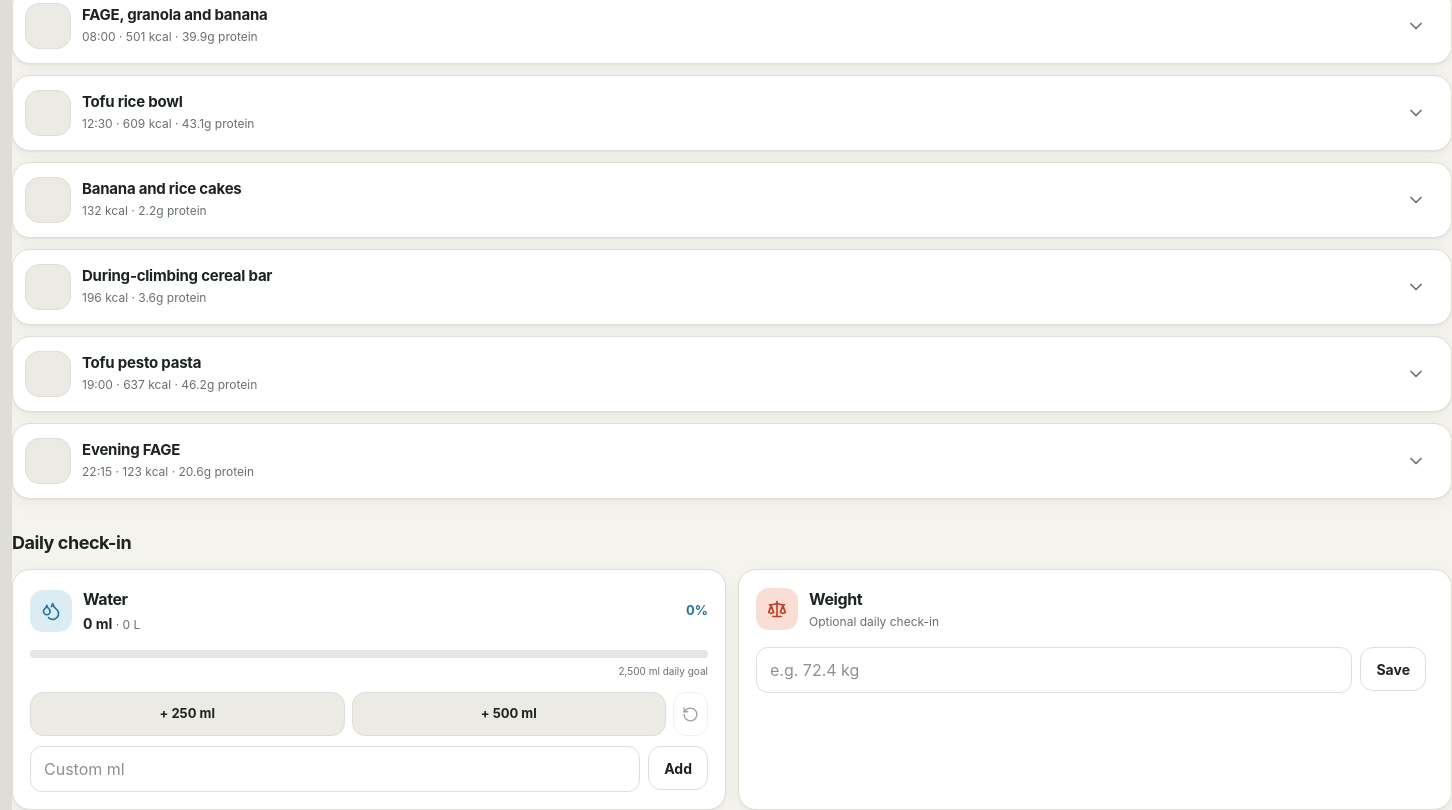
Scenario: tracking interactions › saves and removes a weight entry
(page scrolled)
Type "72.4" into the number field named "Weight in kilograms" at (1054, 670), box [756,647,1352,693]
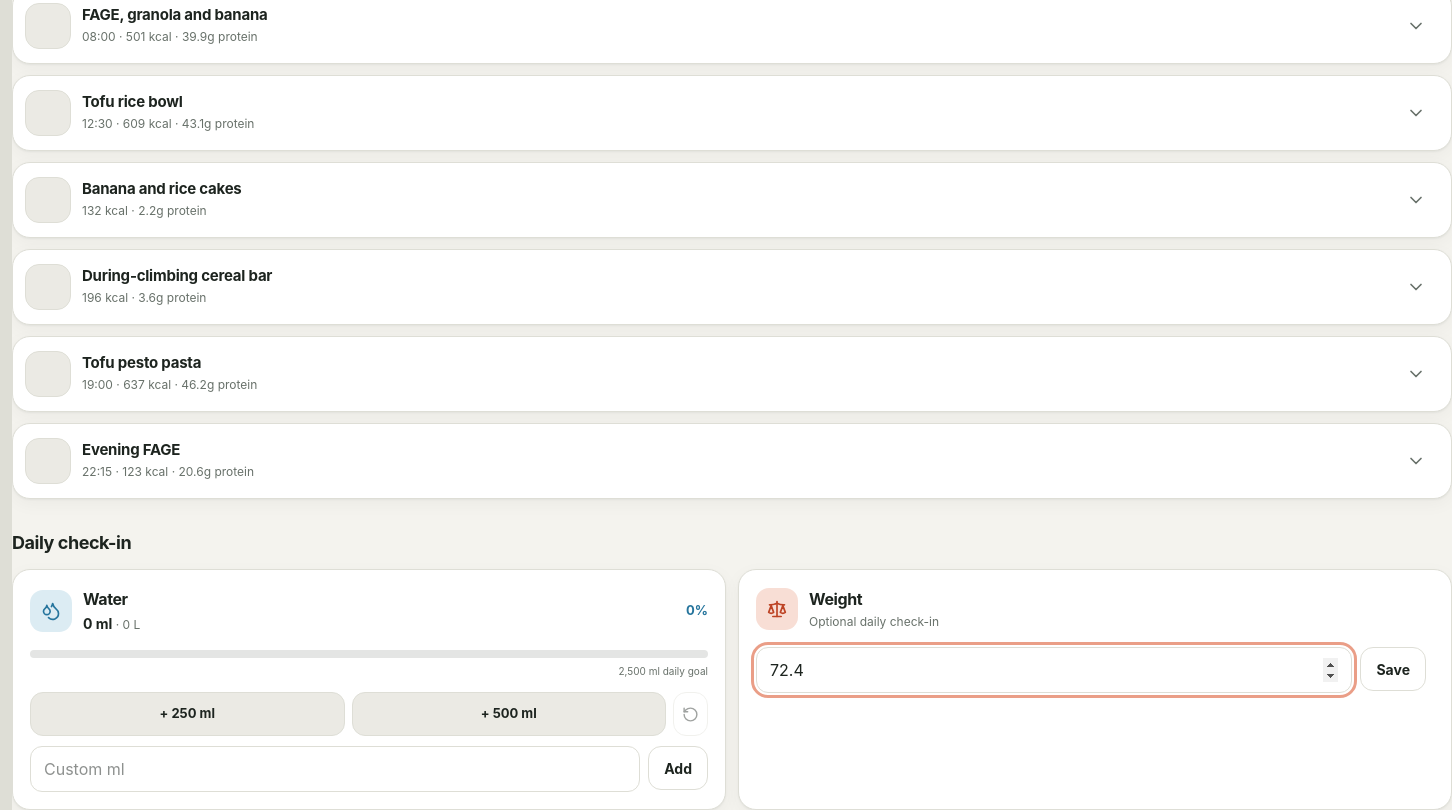
Click the button "Save" at (1393, 669), box [1360,647,1426,691]
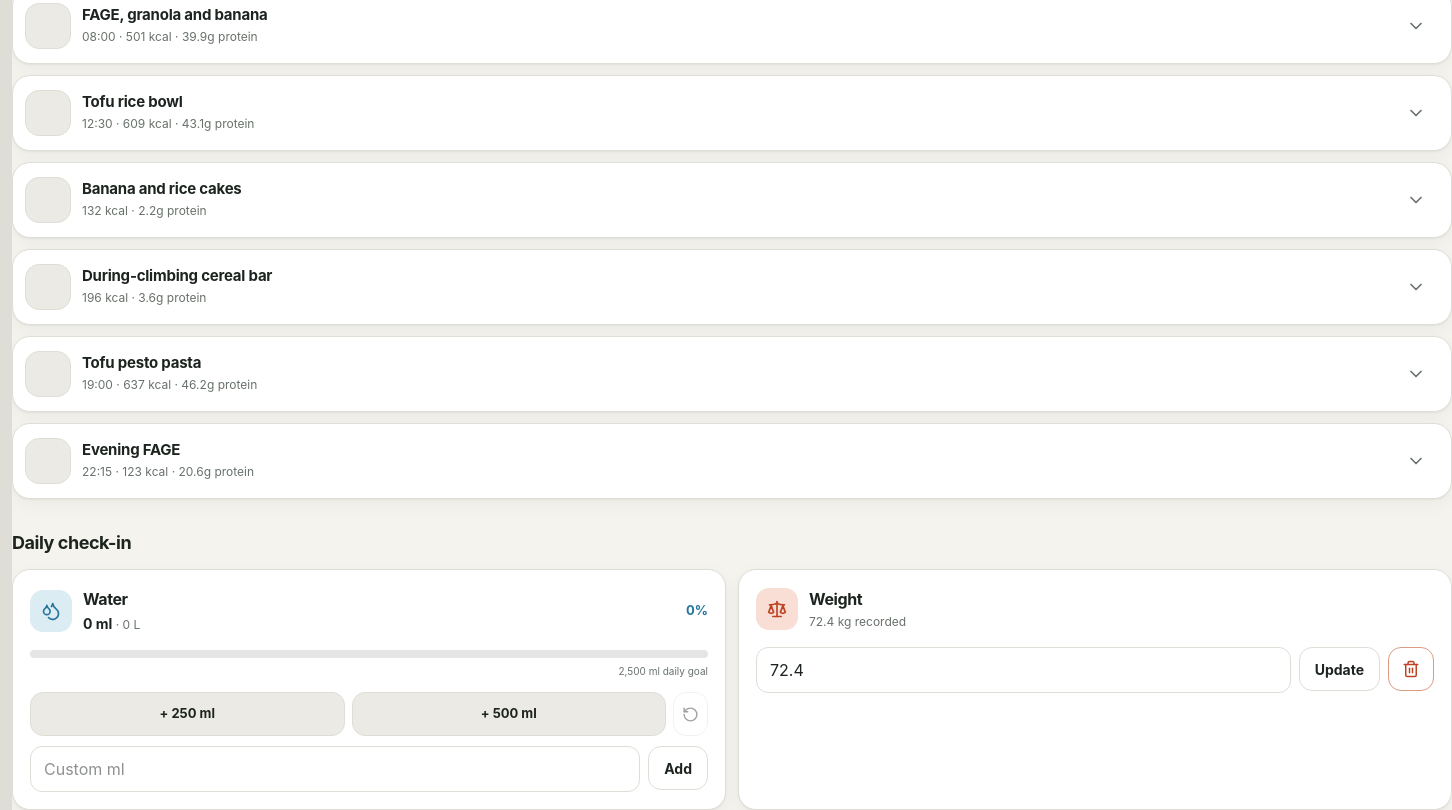
Expected: the text "72.4 kg recorded" is shown, [809,613,906,631]
Click the button named "Remove weight entry" at (1411, 669), box [1388,647,1434,691]
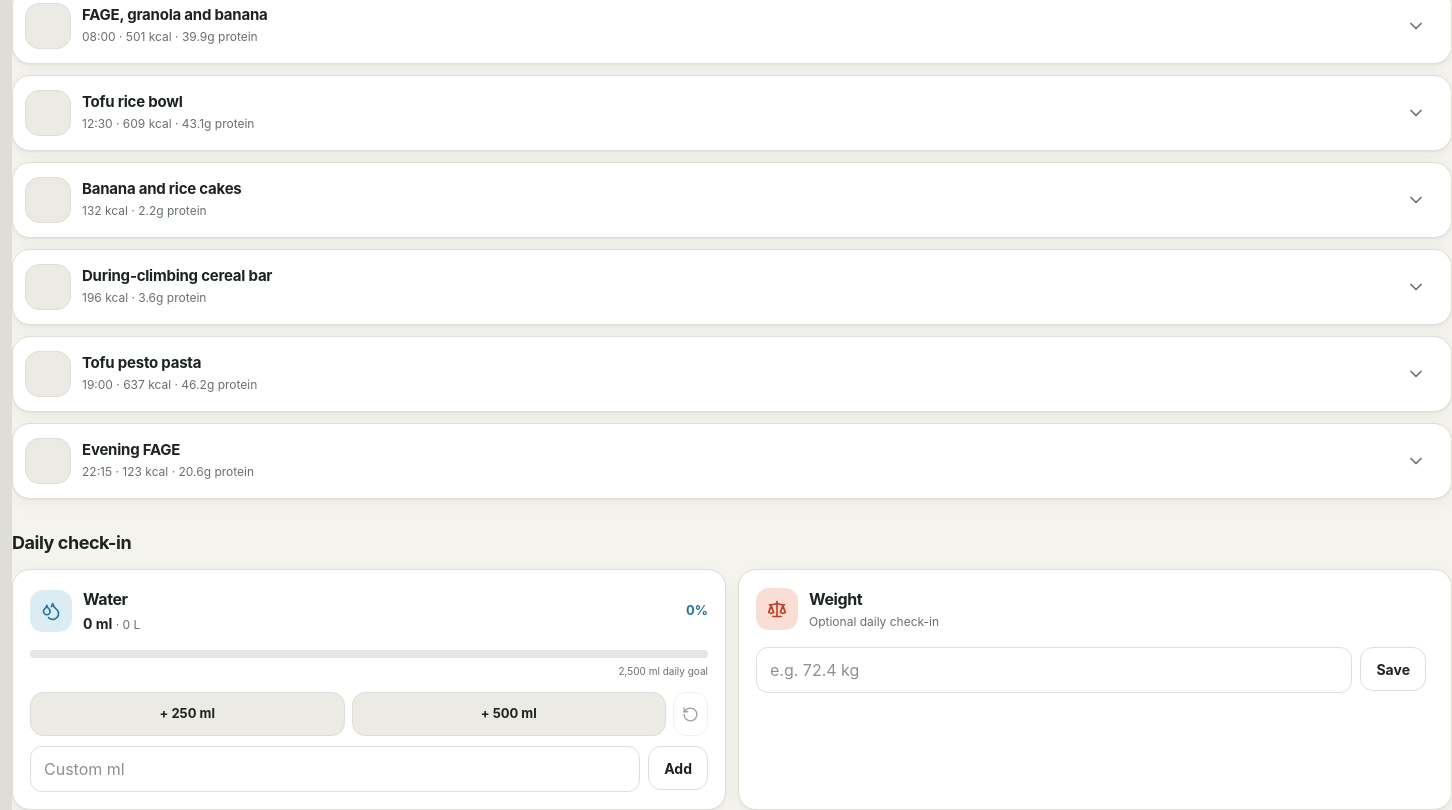
Expected: the text "Optional daily check-in" is shown, [809,613,939,631]
